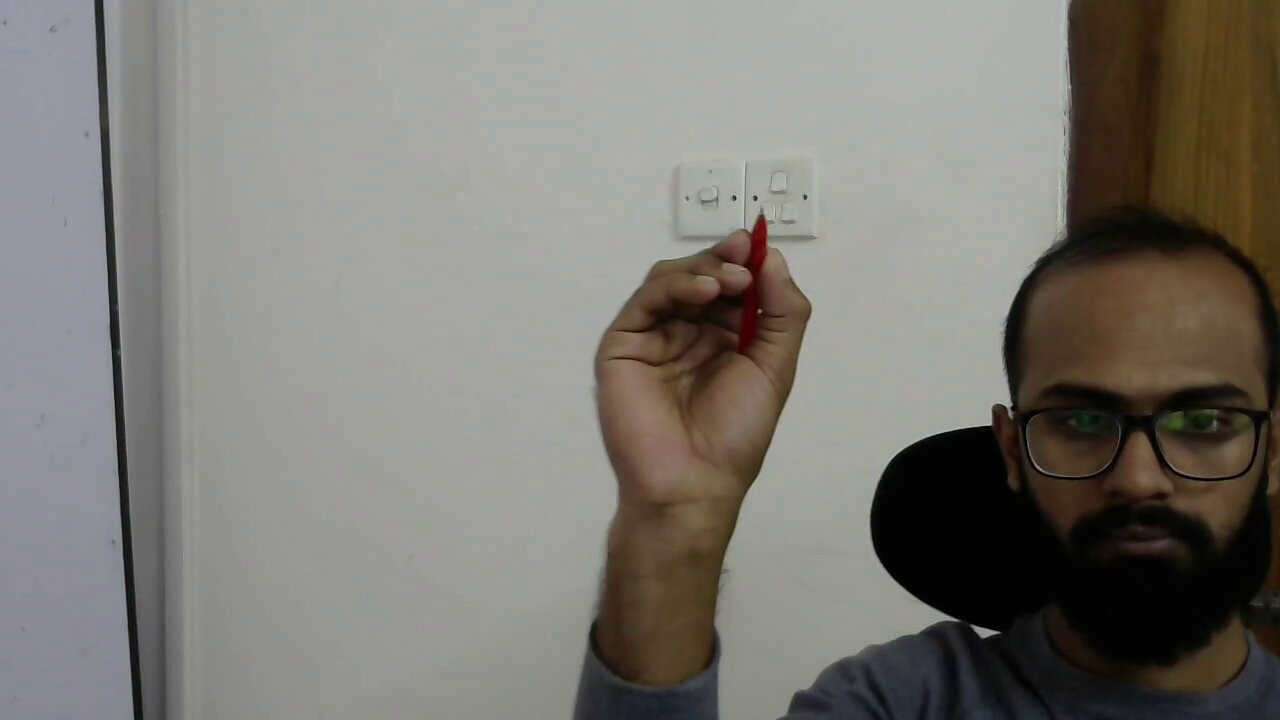pointer: (593, 229, 814, 401)
